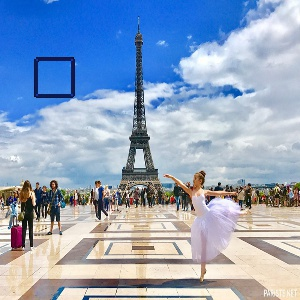square: (33, 56, 75, 98)
